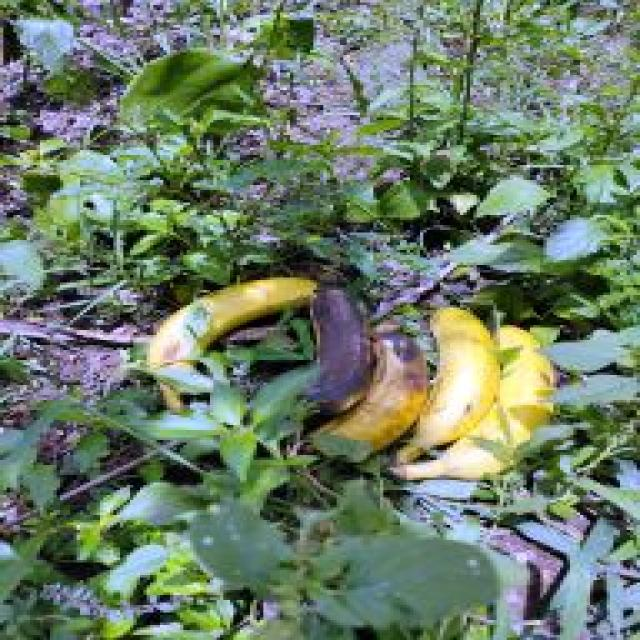Organik: (124, 263, 308, 419), (230, 262, 408, 417), (422, 309, 573, 486), (333, 319, 434, 453), (406, 297, 488, 444)
